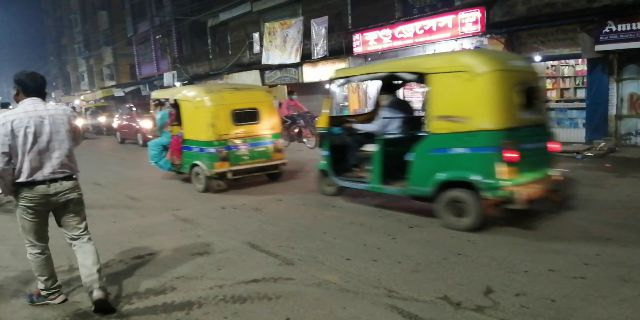Autorickshaw: (314, 60, 566, 230), (145, 83, 290, 193)
Car: (110, 101, 155, 151)
